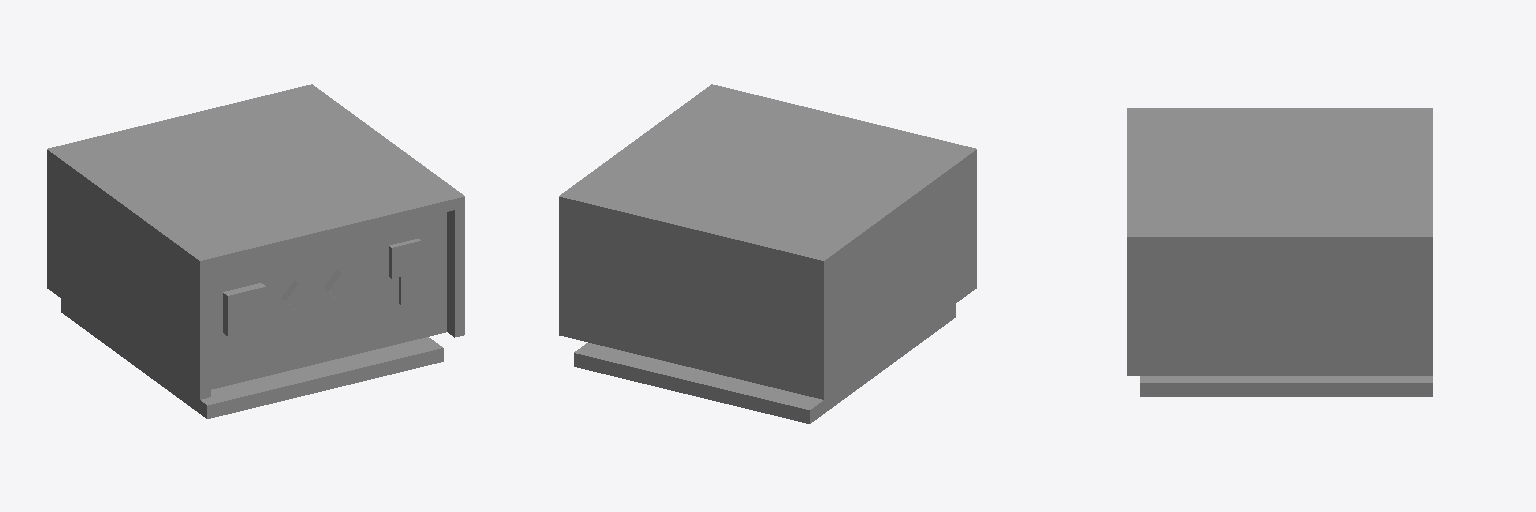
The model's file is controller.obj.
3 renders of one model, left to right at view 1: azimuth 30°, elevation 25°; view 2: azimuth 150°, elevation 25°; view 3: azimuth 270°, elevation 25°, orthographic.
Visible parts, largest first — view 1: Cube.001_Cube, Cube.002_Cube.001, Cube.003, Cube.006, Cube.005, Cube.004; view 2: Cube.001_Cube, Cube.002_Cube.001; view 3: Cube.001_Cube, Cube.002_Cube.001.
Part boxes in pixels (x1,y1,x2,y2): Cube.001_Cube: (47, 84, 464, 399); Cube.002_Cube.001: (61, 299, 443, 418); Cube.003: (223, 283, 266, 335); Cube.006: (389, 239, 420, 278); Cube.005: (324, 270, 355, 301); Cube.004: (281, 280, 312, 312); Cube.001_Cube: (559, 84, 976, 399); Cube.002_Cube.001: (574, 304, 955, 423); Cube.001_Cube: (1127, 108, 1432, 375); Cube.002_Cube.001: (1140, 376, 1432, 396).
Bounding box in the file's own units: 1 × 0.6 × 1.